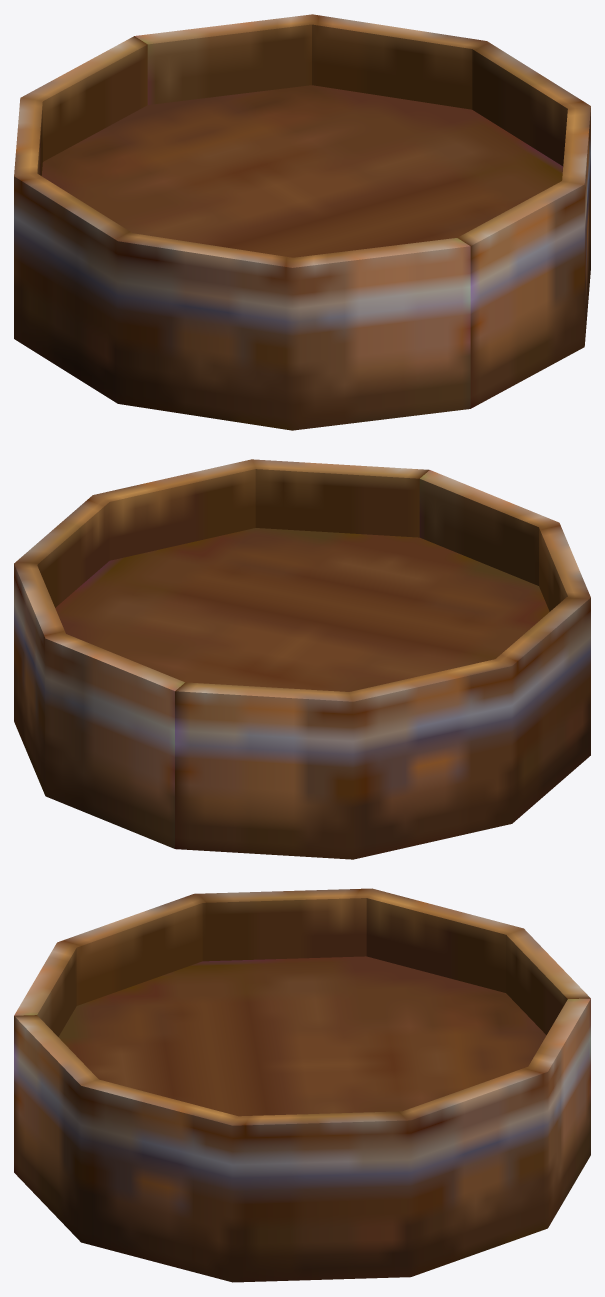
File: s_pen.FBX
3 renders of one model, top to bottom at view 1: azimuth 30°, elevation 25°; view 2: azimuth 150°, elevation 25°; view 3: azimuth 270°, elevation 25°, orthographic. The views are drawn at different scales.
Visible parts, largest first — view 1: pen; view 2: pen; view 3: pen.
Part boxes in pixels (x1,y1,x2,y2): pen: (14,14,590,430); pen: (14,459,590,859); pen: (14,888,590,1282).
Bounding box in the file's own units: 13.79 × 4.25 × 14.17.
